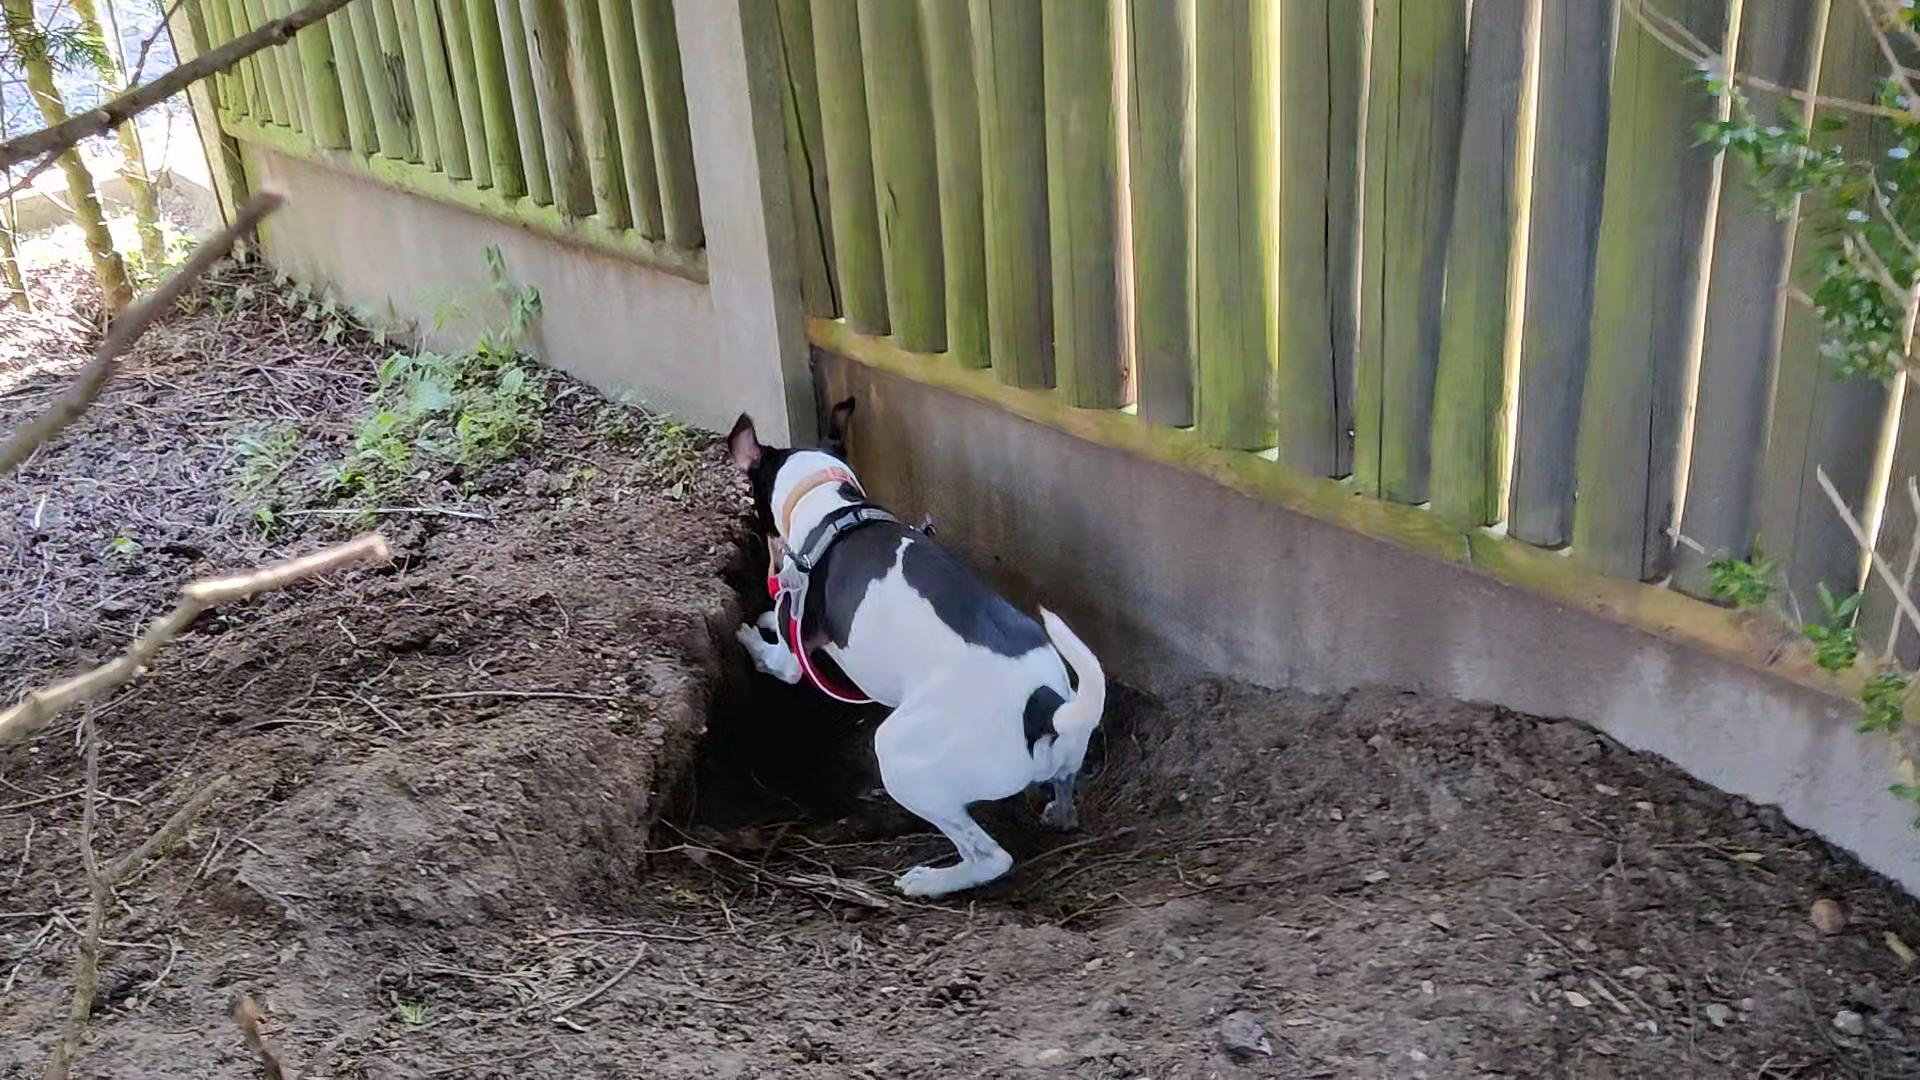Dog: (716, 385, 1122, 909)
